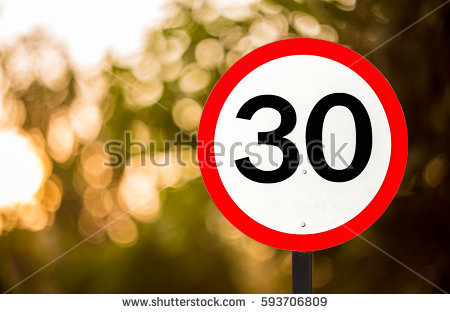Speed_limit_30km: (197, 38, 407, 252)
